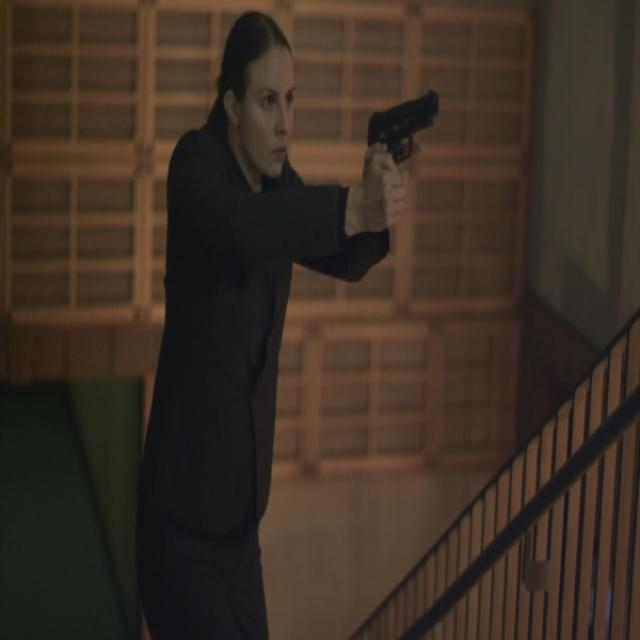weapons: (357, 70, 447, 260)
